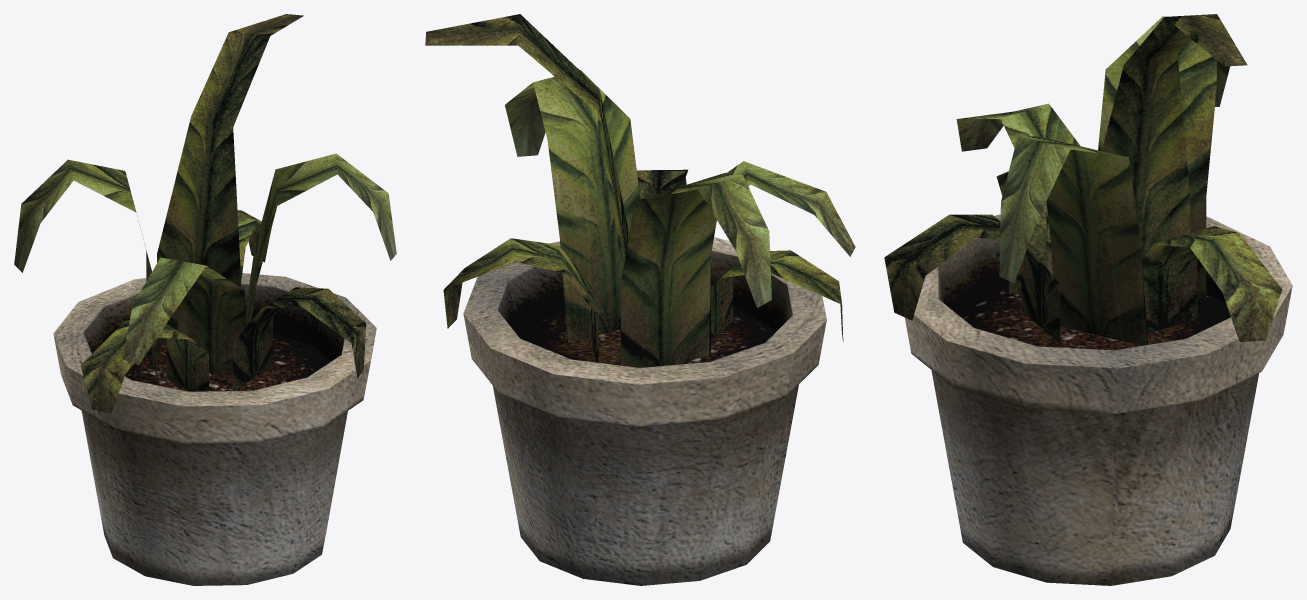
File: 512Plant.fbx
3 renders of one model, left to right at view 1: azimuth 30°, elevation 25°; view 2: azimuth 150°, elevation 25°; view 3: azimuth 270°, elevation 25°, orthographic. The views are drawn at different scales.
Visible parts, largest first — view 1: Cylinder, Cylinder.001; view 2: Cylinder, Cylinder.001; view 3: Cylinder, Cylinder.001.
Boxes of the visible parts, x1,y1,x2,y2 form: Cylinder: (53,273,376,585); Cylinder.001: (14,14,396,413); Cylinder: (463,237,826,585); Cylinder.001: (425,14,855,367); Cylinder: (904,214,1292,585); Cylinder.001: (884,14,1282,345).
Size of the model in its own units: 23.55 by 34.21 by 22.55.
2 materials, 2 textured.
